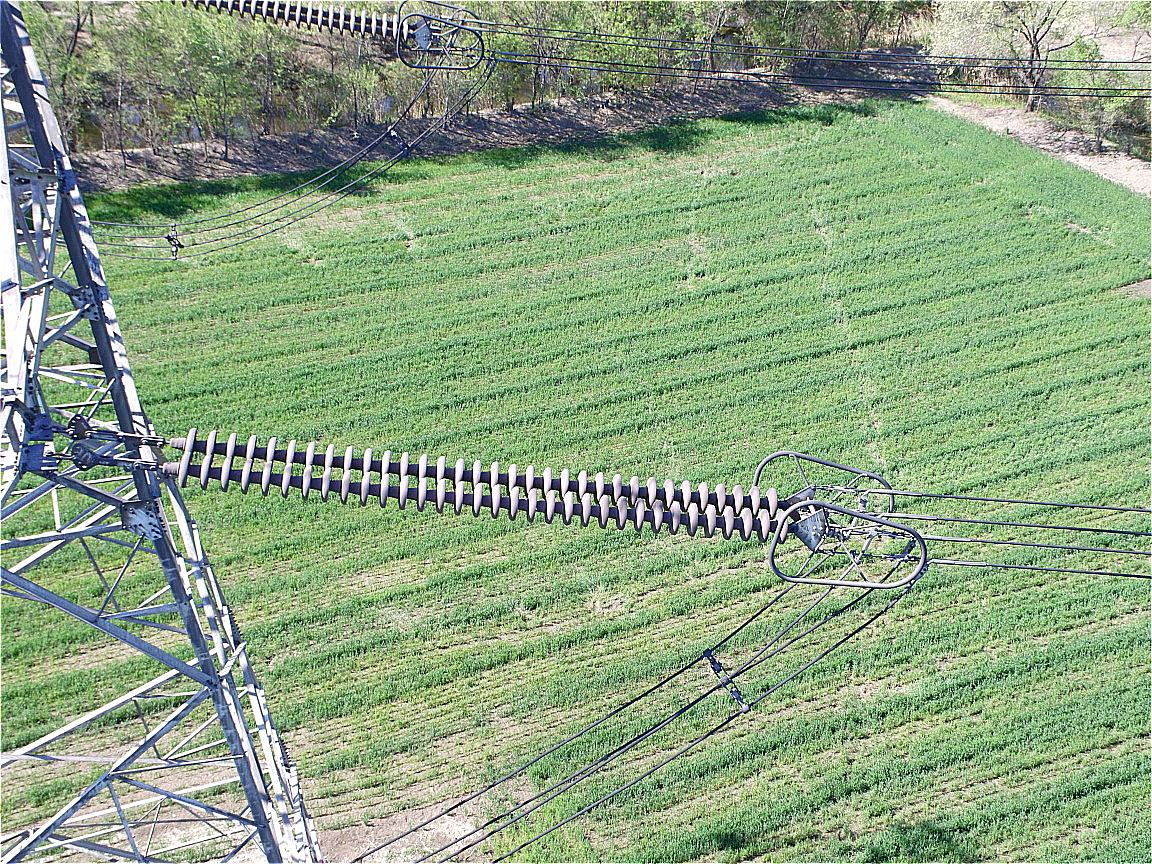insultor1: (178, 425, 780, 543)
